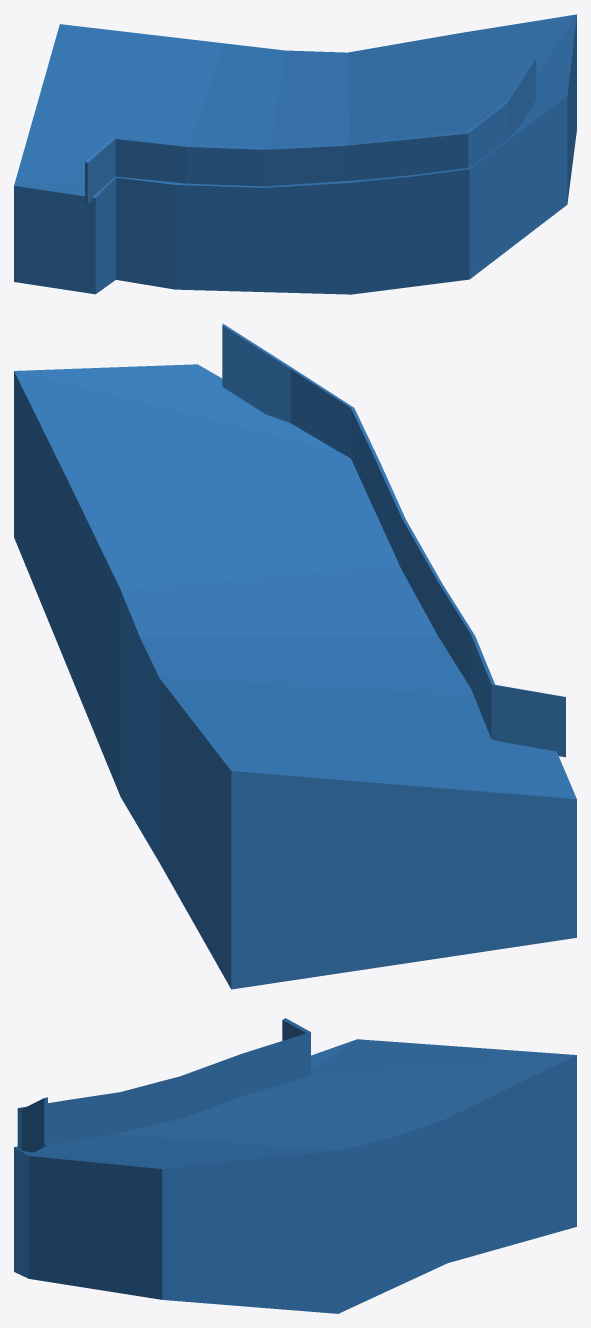
Rendered from Dokdo_Police_Way_02_Collision.FBX.
The picture shows the model from 3 angles, top to bottom: view 1: azimuth 30°, elevation 25°; view 2: azimuth 150°, elevation 25°; view 3: azimuth 270°, elevation 25°; orthographic projection. The views are drawn at different scales.
Parts seen in each view (by area): view 1: Dokdo_Police_Way_02_Collision; view 2: Dokdo_Police_Way_02_Collision; view 3: Dokdo_Police_Way_02_Collision.
Part boxes in pixels (x1,y1,x2,y2): Dokdo_Police_Way_02_Collision: [14, 14, 576, 294]; Dokdo_Police_Way_02_Collision: [14, 323, 576, 989]; Dokdo_Police_Way_02_Collision: [14, 1018, 576, 1313].
Size of the model in its own units: 16.25 by 7.54 by 14.67.
